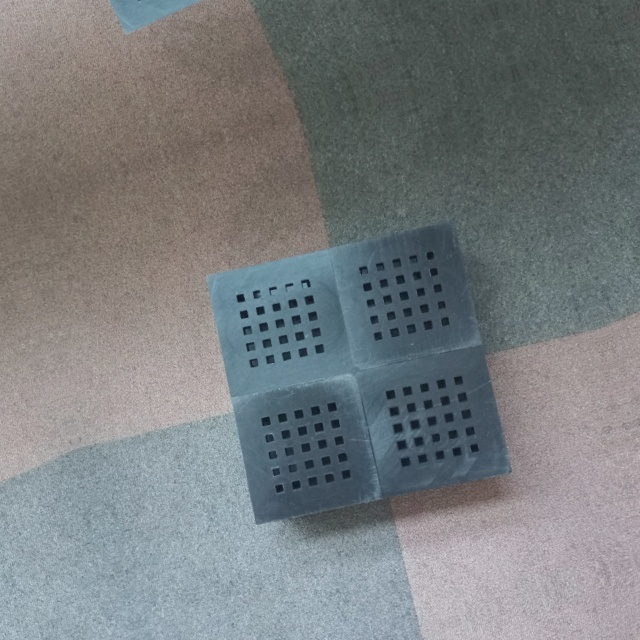pallet: (196, 213, 522, 530)
